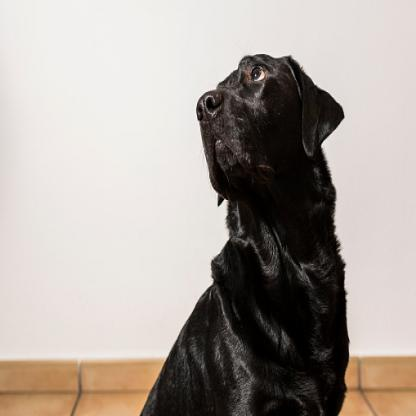dog: (142, 55, 347, 416)
